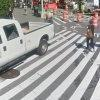cars: (0, 19, 55, 72)
